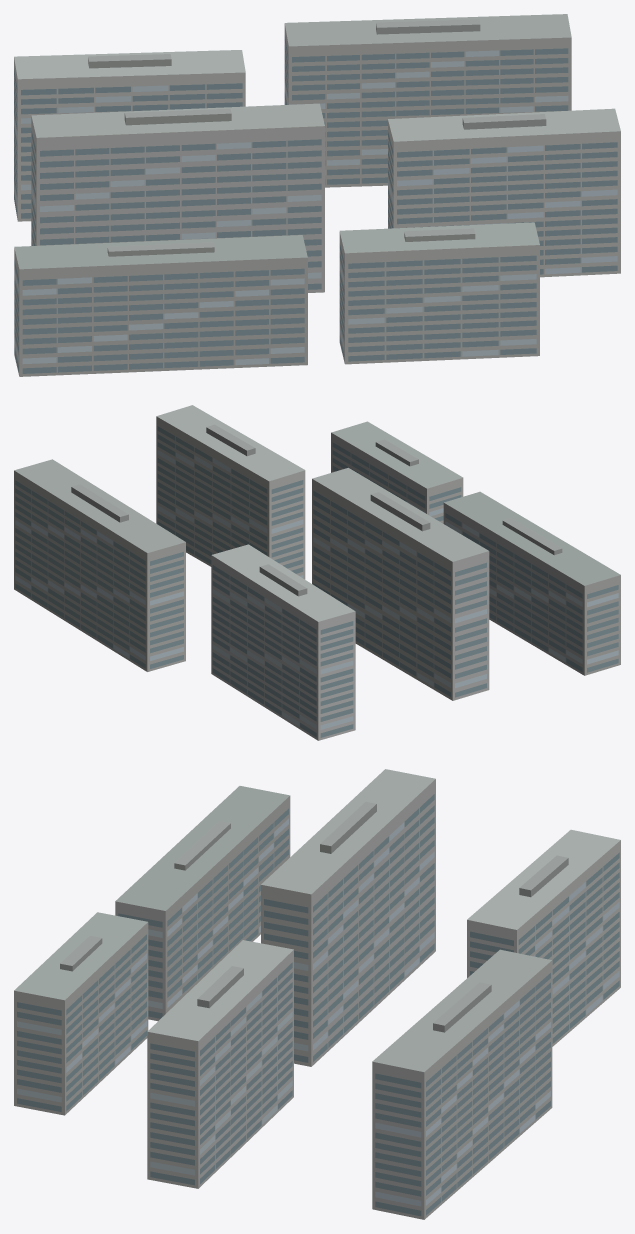
Rendered from apt-a13993501.glb.
3 views of the same model, one above another, from view 1: azimuth 30°, elevation 25°; view 2: azimuth 150°, elevation 25°; view 3: azimuth 270°, elevation 25° (orthographic). The views are drawn at different scales.
Visible parts, largest first — view 1: apt-a13993501; view 2: apt-a13993501; view 3: apt-a13993501.
Part boxes in pixels (x1,y1,x2,y2): apt-a13993501: [14, 14, 620, 376]; apt-a13993501: [14, 405, 620, 740]; apt-a13993501: [14, 769, 620, 1219].
Size of the model in its own units: 183 by 47.81 by 146.
